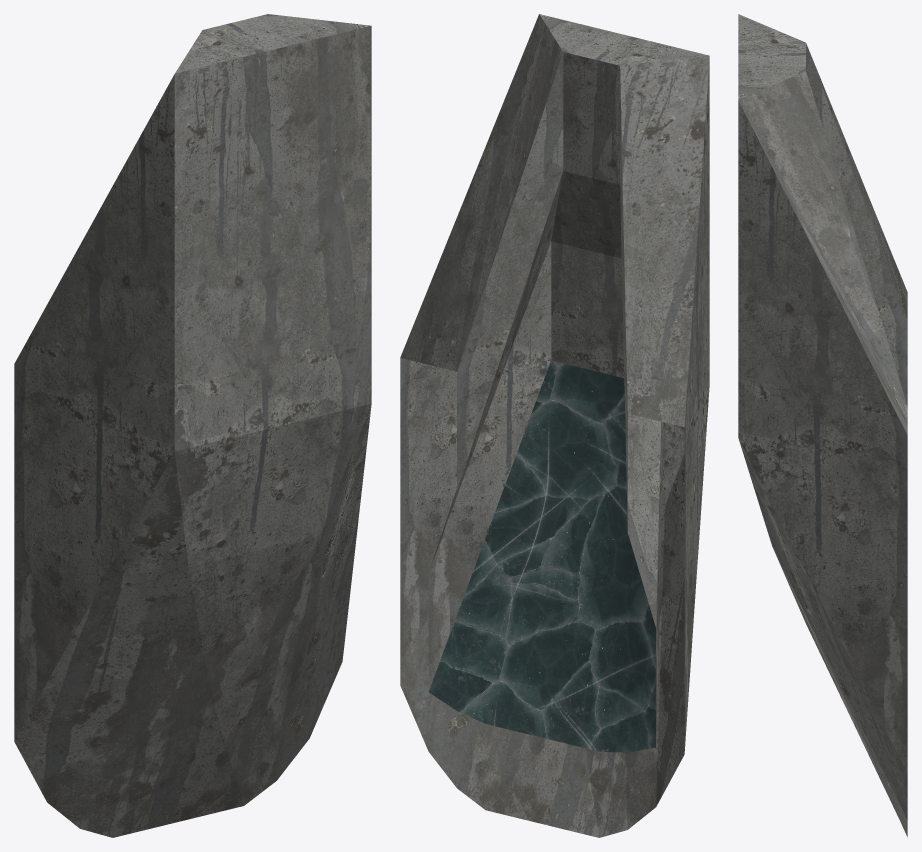
File: Dragonfly_IceSlide_Start.fbx
3 views of the same model, side by side, from view 1: azimuth 30°, elevation 25°; view 2: azimuth 150°, elevation 25°; view 3: azimuth 270°, elevation 25° (orthographic). The views are drawn at different scales.
Parts seen in each view (by area): view 1: Slide Start; view 2: Slide Start; view 3: Slide Start.
Boxes of the visible parts, box(x1,y1,x2,y2) form: Slide Start: box(14, 14, 371, 837); Slide Start: box(400, 14, 709, 837); Slide Start: box(738, 14, 907, 837).
Size of the model in its own units: 10 by 24.5 by 5.
